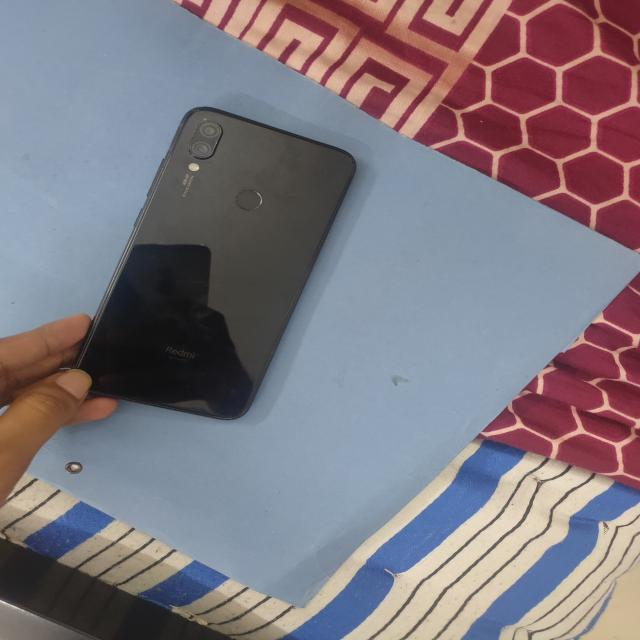Phone: (75, 102, 363, 426)
